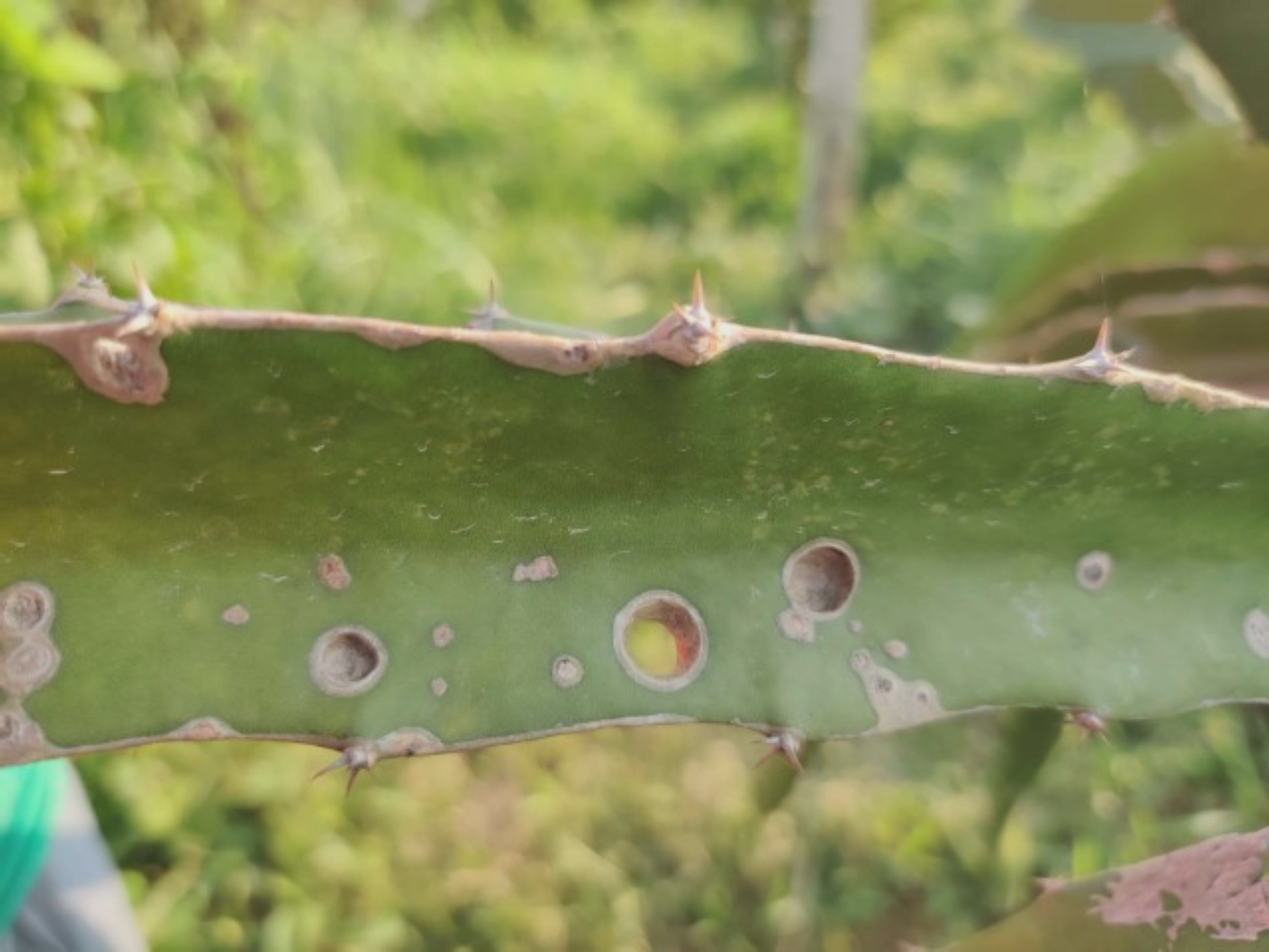stemcanker: (2, 267, 1184, 804)
